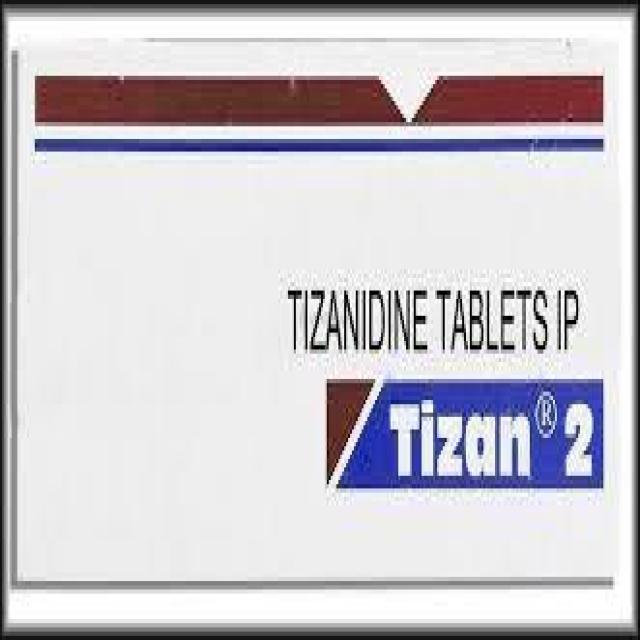drug-name: (386, 392, 596, 476)
